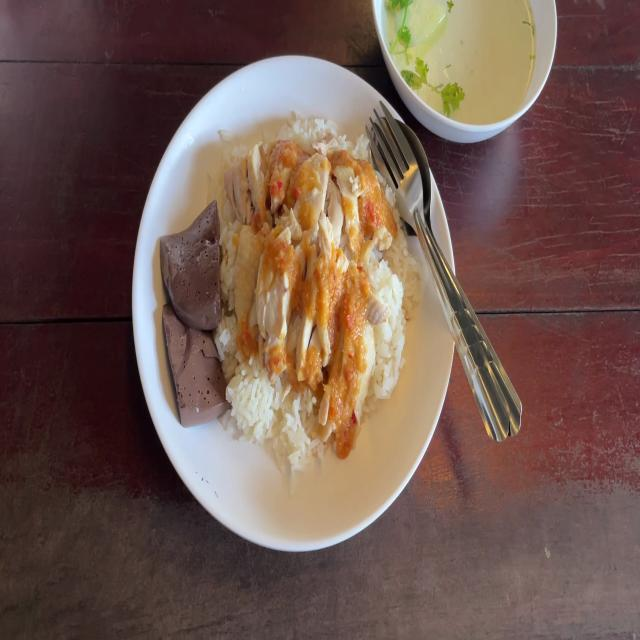chicken_rice: (235, 153, 363, 369)
noodle: (157, 196, 226, 336), (155, 296, 225, 418)
